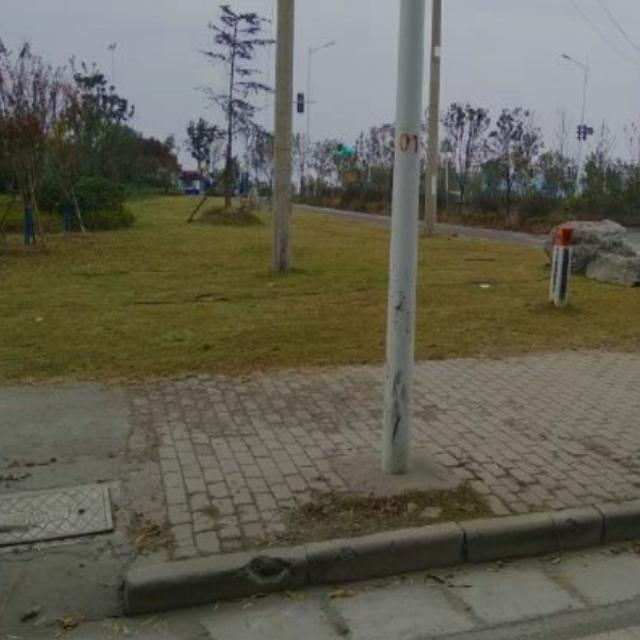broke: (0, 489, 119, 546)
